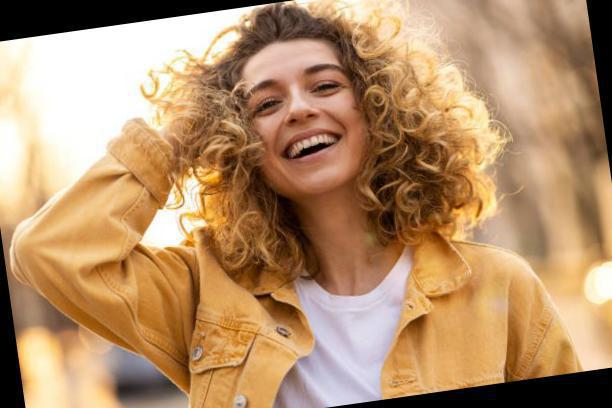Sober: (247, 56, 363, 178)
